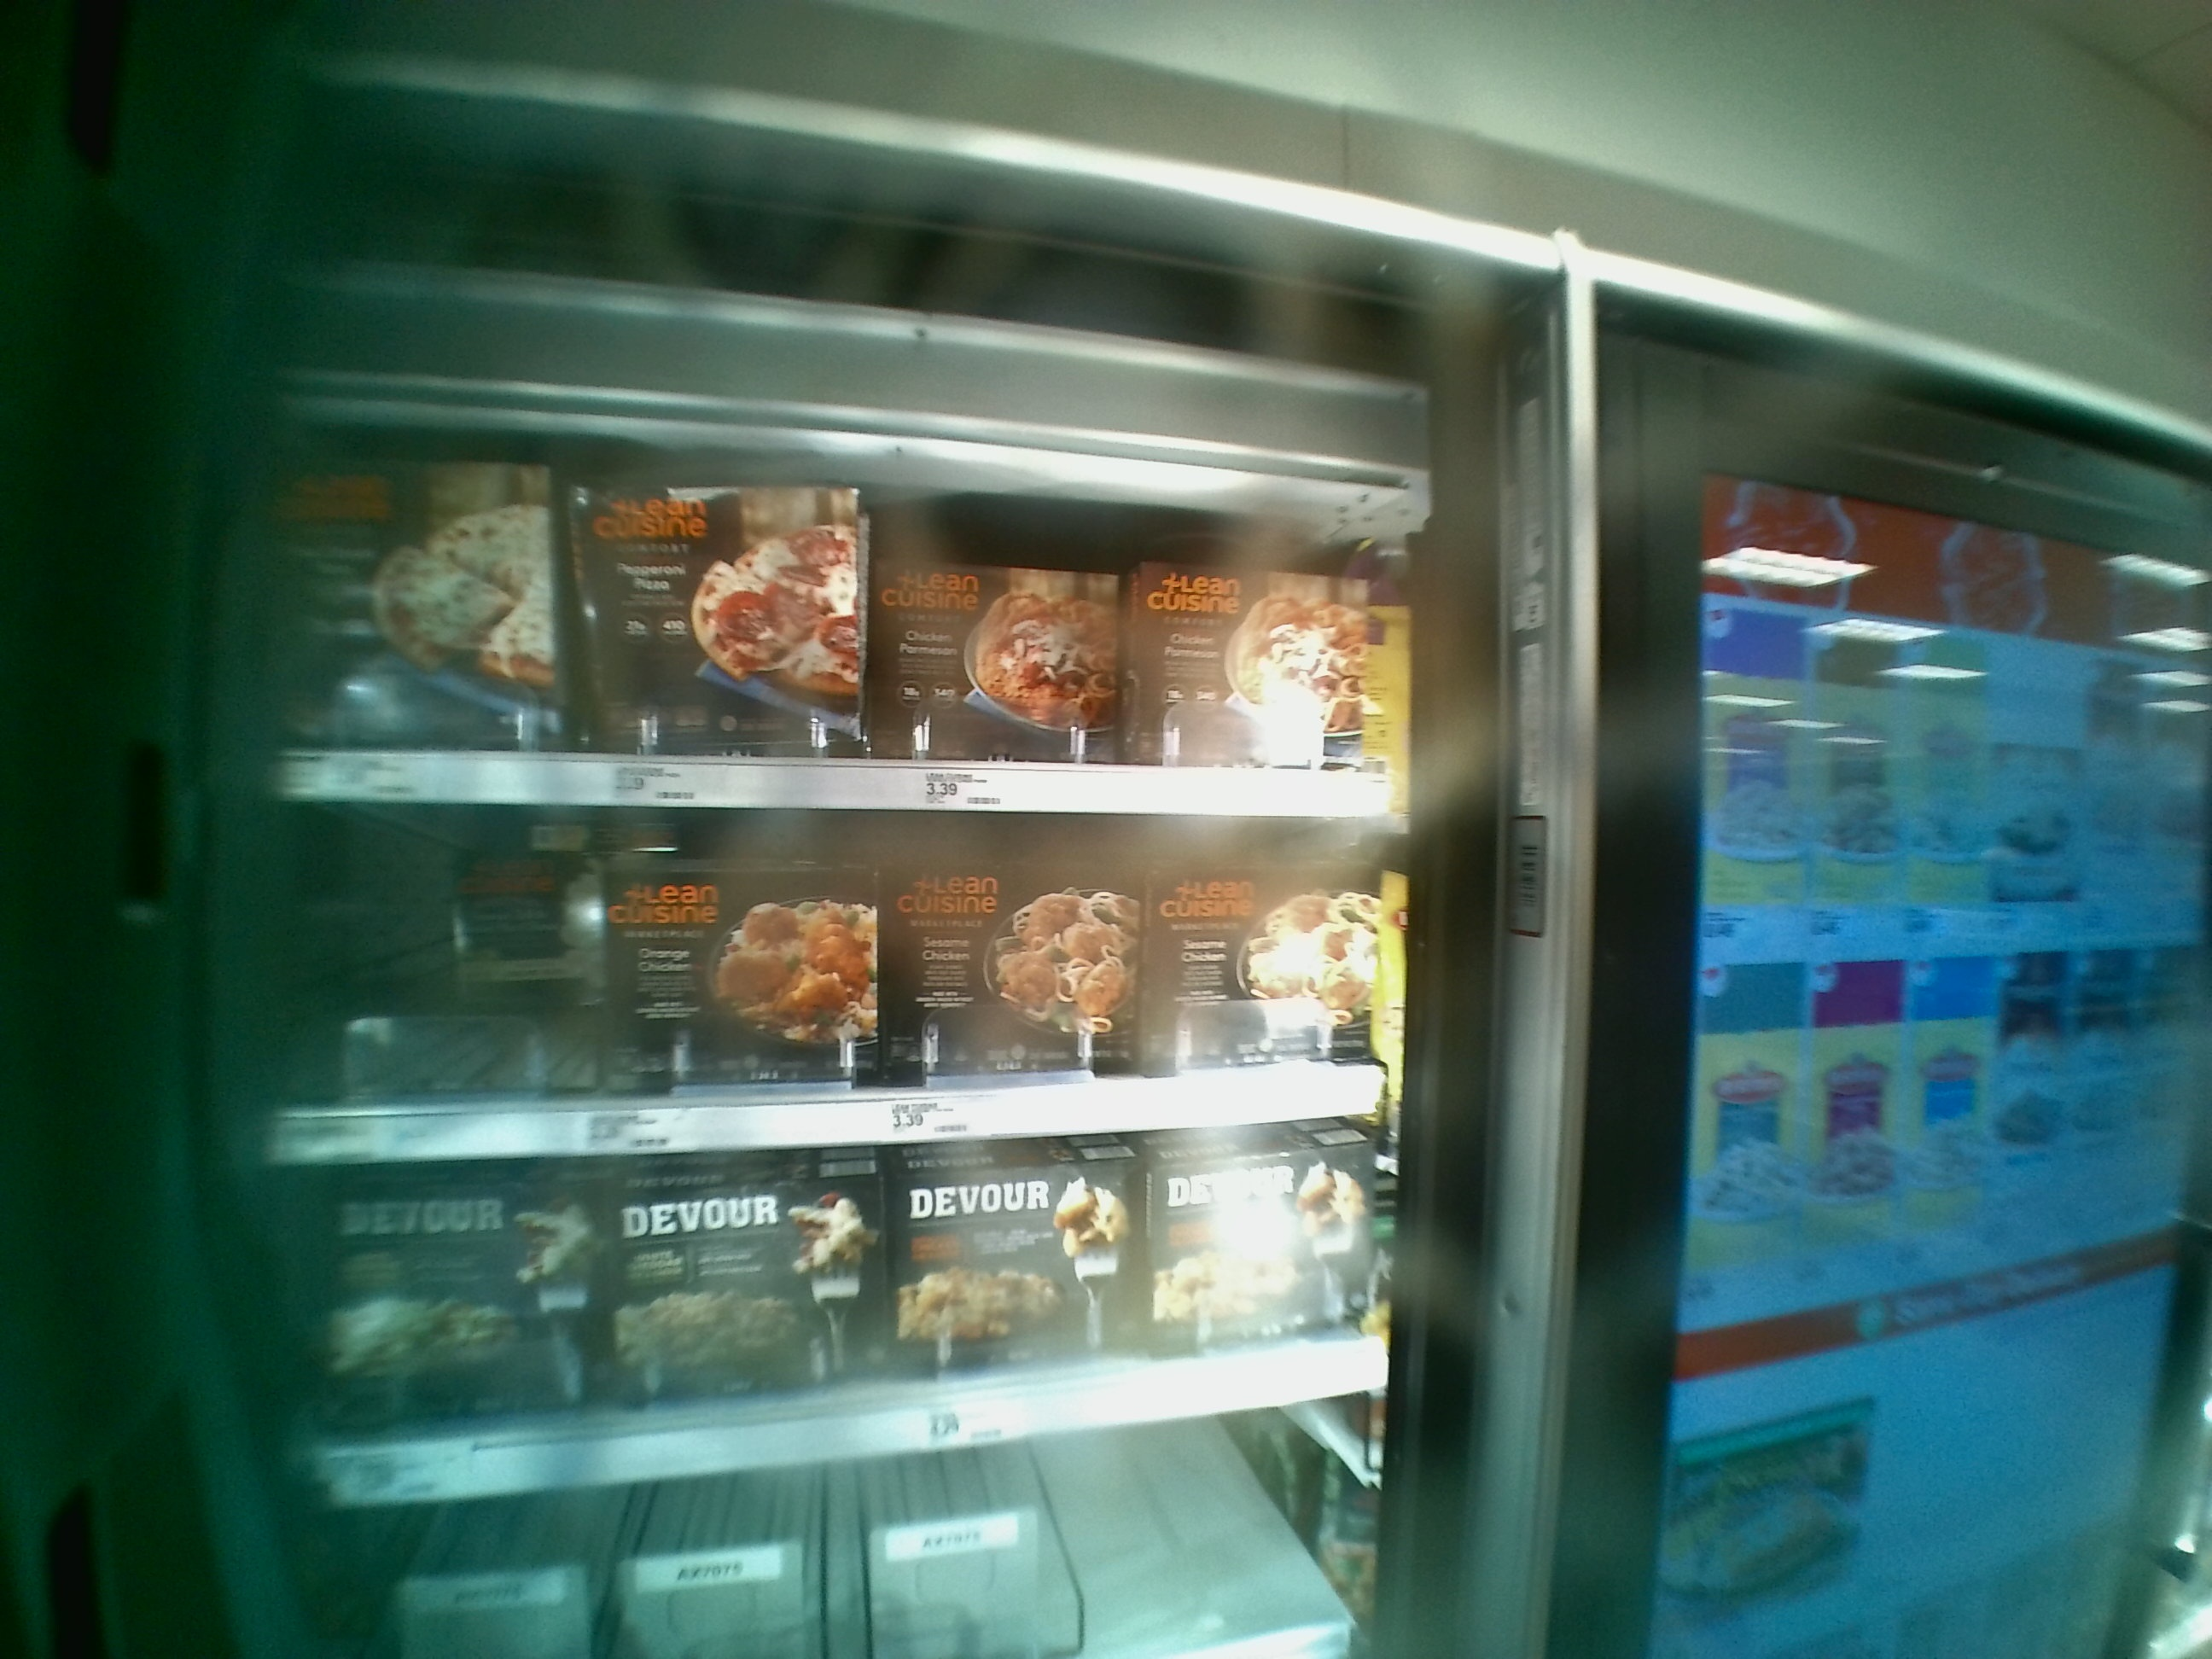shelf: (261, 396, 1411, 823), (270, 1121, 1385, 1497), (263, 802, 1385, 1161)
